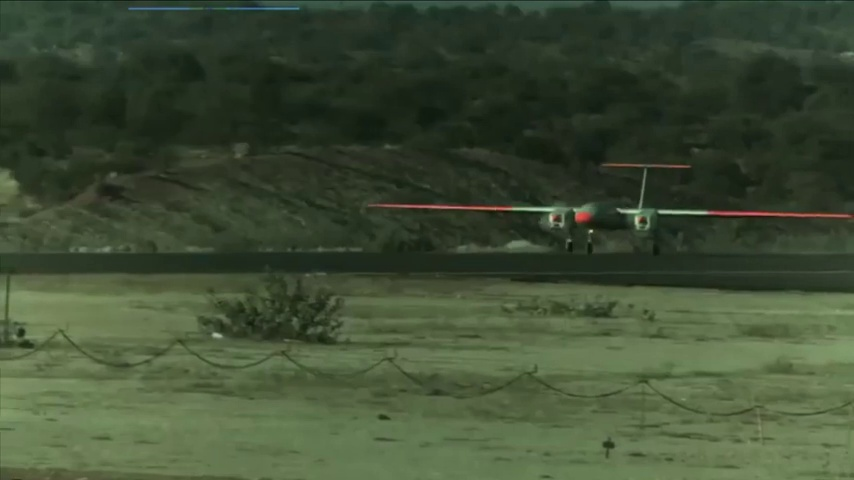military drone: (366, 162, 854, 254)
